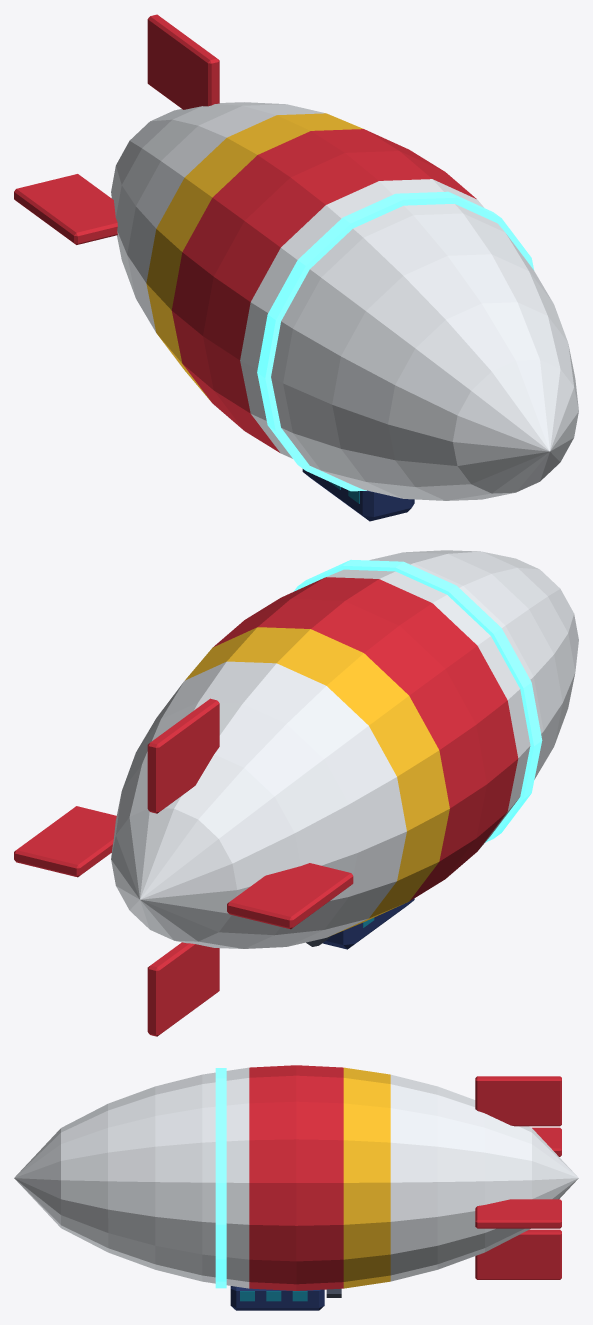
Rendered from Blimp.fbx.
The picture shows the model from 3 angles, top to bottom: view 1: azimuth 30°, elevation 25°; view 2: azimuth 150°, elevation 25°; view 3: azimuth 270°, elevation 25°; orthographic projection. The views are drawn at different scales.
Visible parts, largest first — view 1: Blimp, Neon_Cyan; view 2: Blimp, Neon_Cyan; view 3: Blimp, Neon_Cyan.
Part boxes in pixels (x1,y1,x2,y2): Blimp: [14, 14, 578, 521]; Neon_Cyan: [257, 191, 534, 491]; Blimp: [14, 550, 578, 1036]; Neon_Cyan: [293, 559, 542, 842]; Blimp: [14, 1065, 578, 1310]; Neon_Cyan: [215, 1068, 226, 1288].
Size of the model in its own units: 12 by 13.4 by 30.
2 materials, 1 textured.
